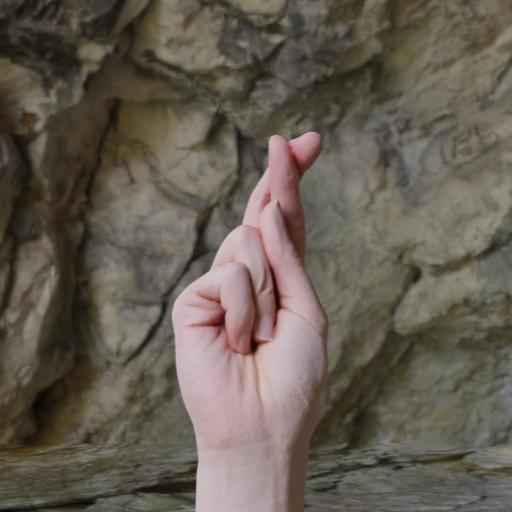R: (146, 117, 356, 485)
